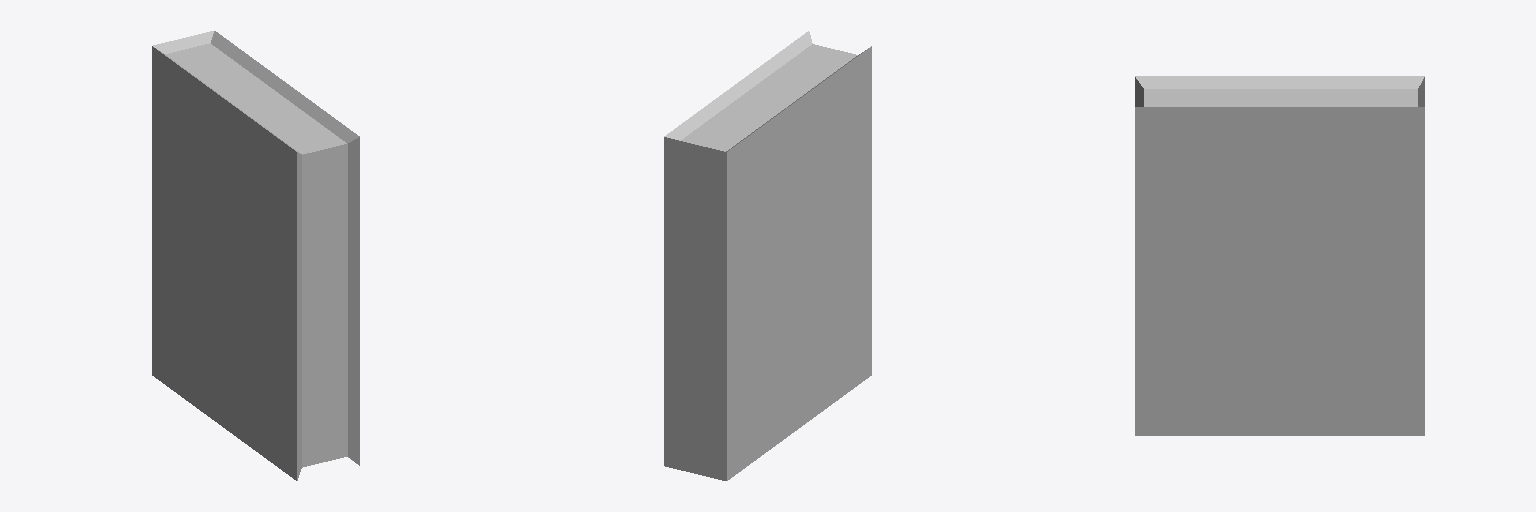
Rendered from clutter_book_01.obj.
The picture shows the model from 3 angles: view 1: azimuth 30°, elevation 25°; view 2: azimuth 150°, elevation 25°; view 3: azimuth 270°, elevation 25°; orthographic projection.
Parts seen in each view (by area): view 1: Cube_Cube.001; view 2: Cube_Cube.001; view 3: Cube_Cube.001.
Boxes of the visible parts, x1=… form: Cube_Cube.001: x1=152, y1=31, x2=359, y2=480; Cube_Cube.001: x1=664, y1=31, x2=871, y2=480; Cube_Cube.001: x1=1135, y1=76, x2=1424, y2=435.
Bounding box in the file's own units: 0.2 × 1 × 0.8.